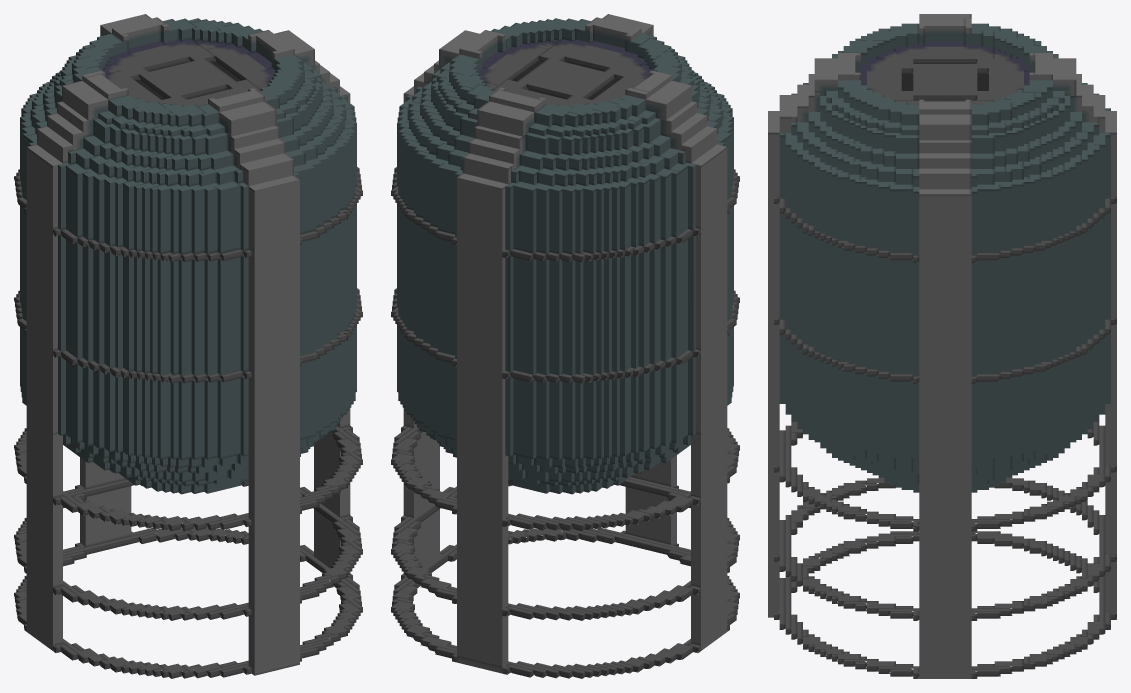
File: zbiornik_na_cos.dae
3 views of the same model, side by side, from view 1: azimuth 30°, elevation 25°; view 2: azimuth 150°, elevation 25°; view 3: azimuth 270°, elevation 25° (orthographic).
Visible parts, largest first — view 1: Content; view 2: Content; view 3: Content.
Boxes of the visible parts, left/top/right/bottom form: Content: left=14, top=14, right=362, bottom=678; Content: left=391, top=14, right=739, bottom=678; Content: left=768, top=14, right=1116, bottom=678.
Size of the model in its own units: 59 by 103 by 60.
1 material, 1 textured.
